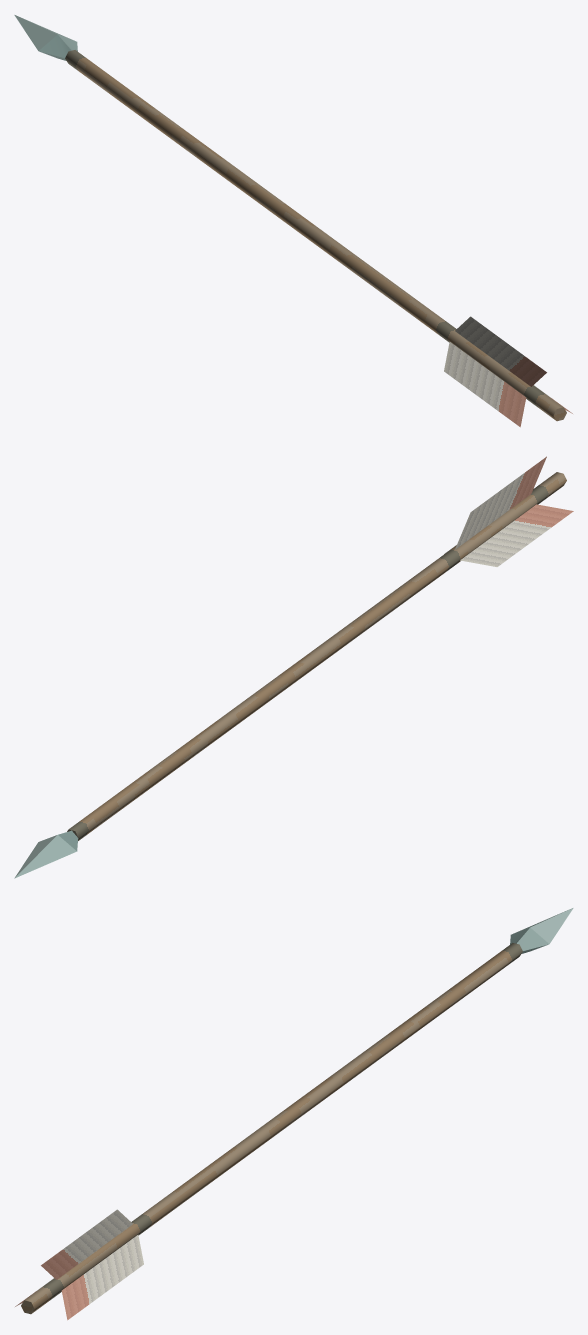
File: 0483_Arrow.glb
3 renders of one model, top to bottom at view 1: azimuth 30°, elevation 25°; view 2: azimuth 150°, elevation 25°; view 3: azimuth 330°, elevation 25°, orthographic.
Parts seen in each view (by area): view 1: part_0; view 2: part_0; view 3: part_0.
Boxes of the visible parts, x1=… form: part_0: x1=14, y1=15, x2=572, y2=427; part_0: x1=14, y1=456, x2=573, y2=878; part_0: x1=15, y1=908, x2=573, y2=1320.
Bounding box in the file's own units: 0.0167 × 0.0144 × 0.2952.
1 material, 1 textured.
